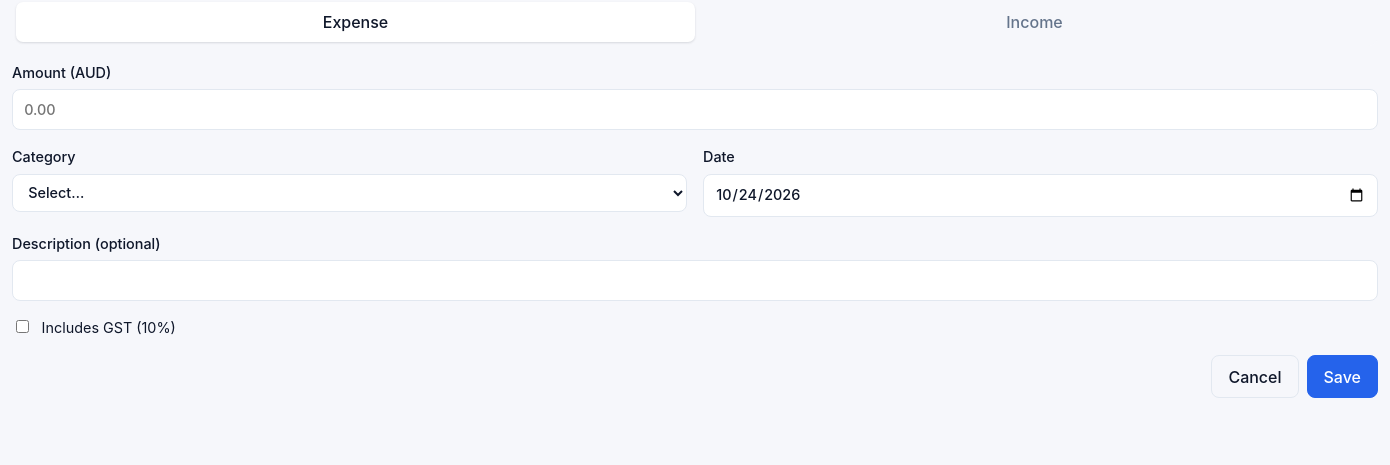
Scenario: TransactionForm › shows validation errors and does not submit invalid input
The width and height of the screenshot is (1390, 465).
Type "abc" into the field labelled "Amount (AUD)" at (695, 110), box 12,89 -> 1378,130
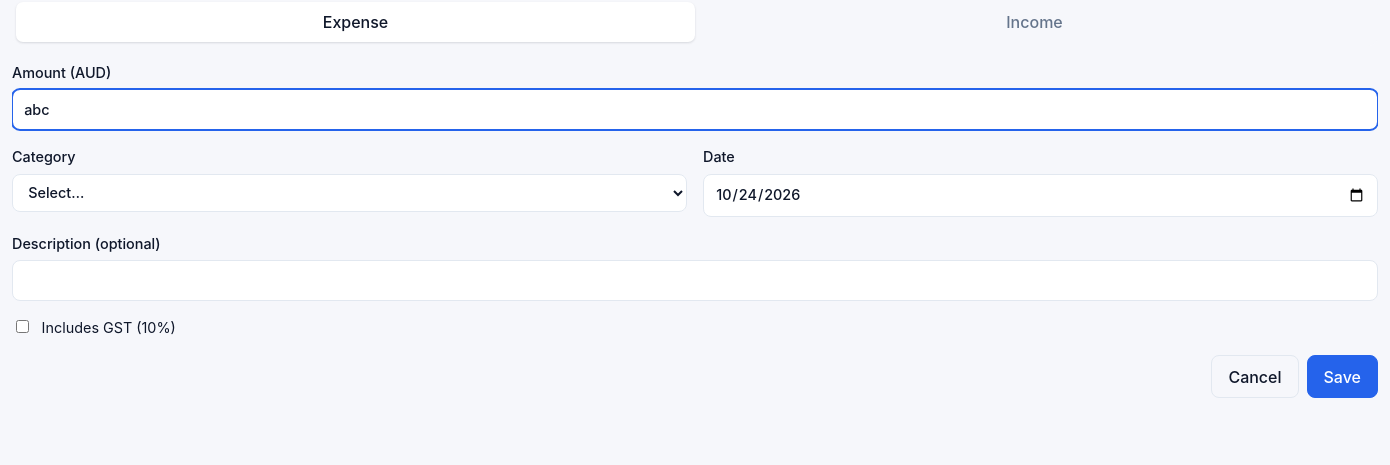
Click the button "Save" at (1342, 377), box 1306,355 -> 1378,398
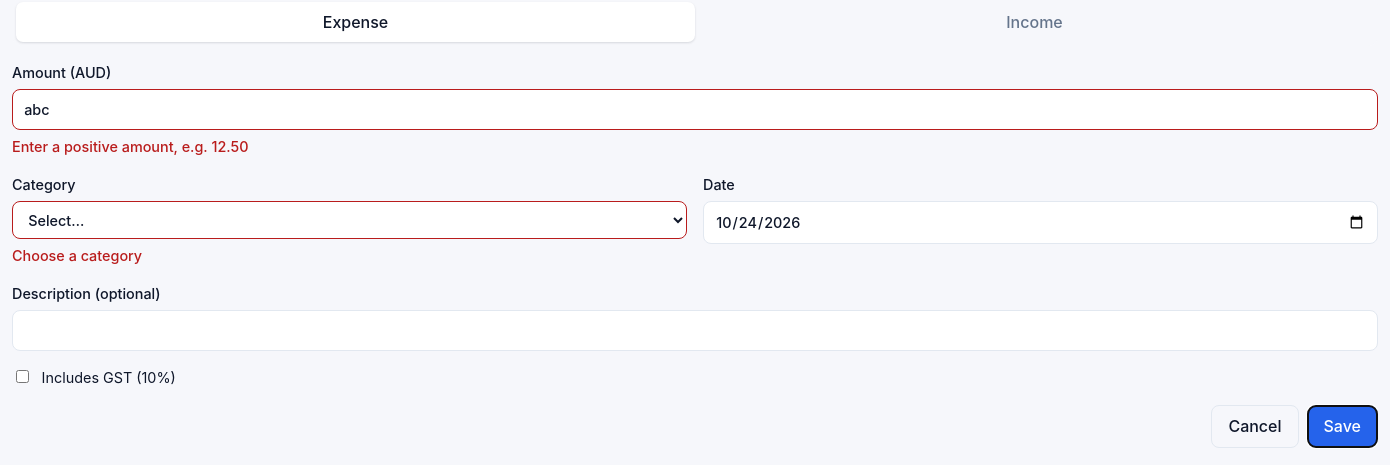
Check: the text "Enter a positive amount, e.g. 12.50" is shown, box 12,138 -> 248,155
Check: the text "Choose a category" is shown, box 12,247 -> 142,264
